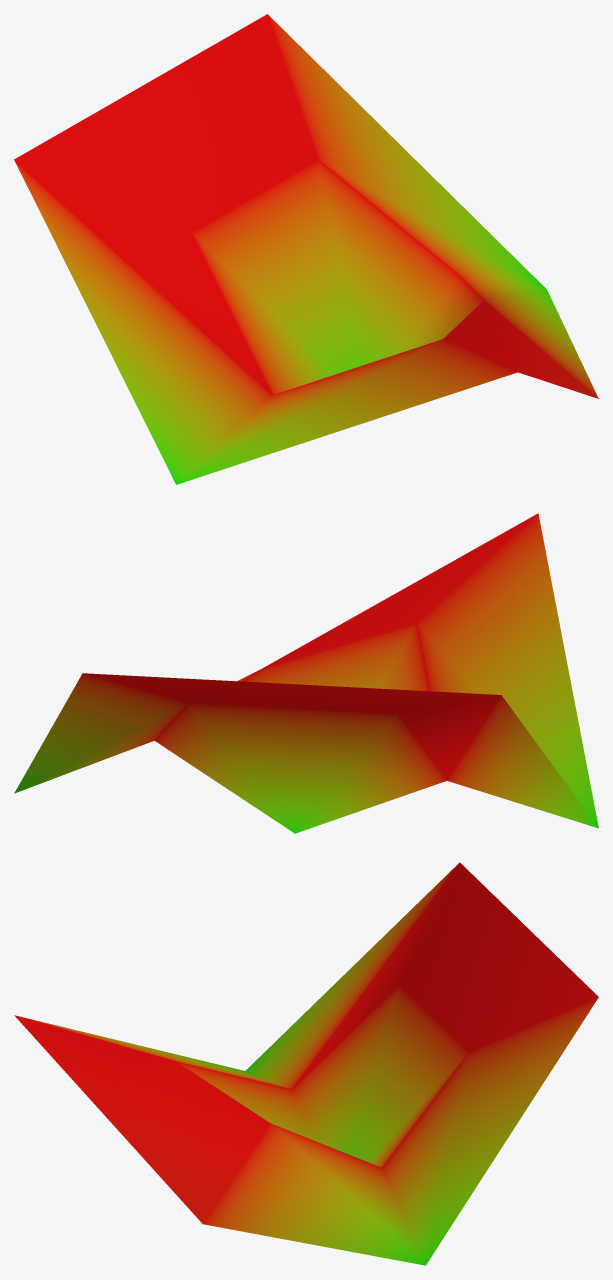
Rendered from Lady Fern_LOD6_Var7_wdvlditia.fbx.
3 renders of one model, top to bottom at view 1: azimuth 30°, elevation 25°; view 2: azimuth 150°, elevation 25°; view 3: azimuth 270°, elevation 25°, orthographic. The views are drawn at different scales.
Visible parts, largest first — view 1: _vmgu_Var7_LOD6; view 2: _vmgu_Var7_LOD6; view 3: _vmgu_Var7_LOD6.
Part boxes in pixels (x1,y1,x2,y2): _vmgu_Var7_LOD6: [14, 14, 598, 484]; _vmgu_Var7_LOD6: [14, 513, 598, 833]; _vmgu_Var7_LOD6: [14, 862, 598, 1265].
Bounding box in the file's own units: 68.38 × 33.64 × 82.08.
